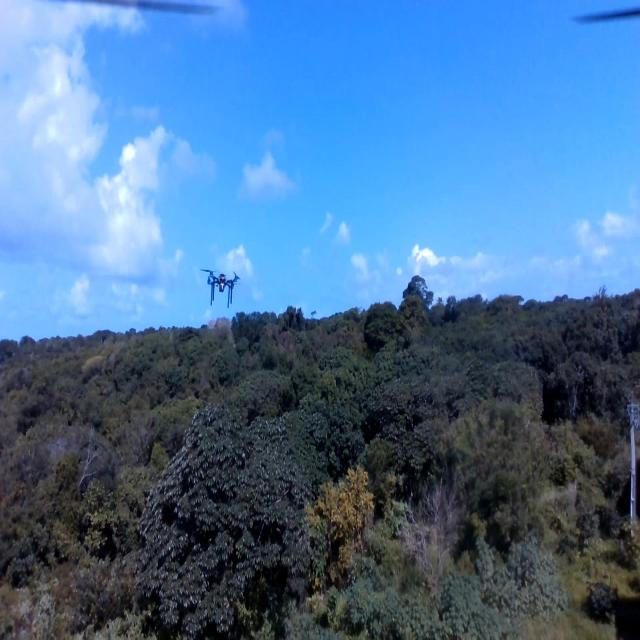-uav-: (194, 247, 258, 320)
